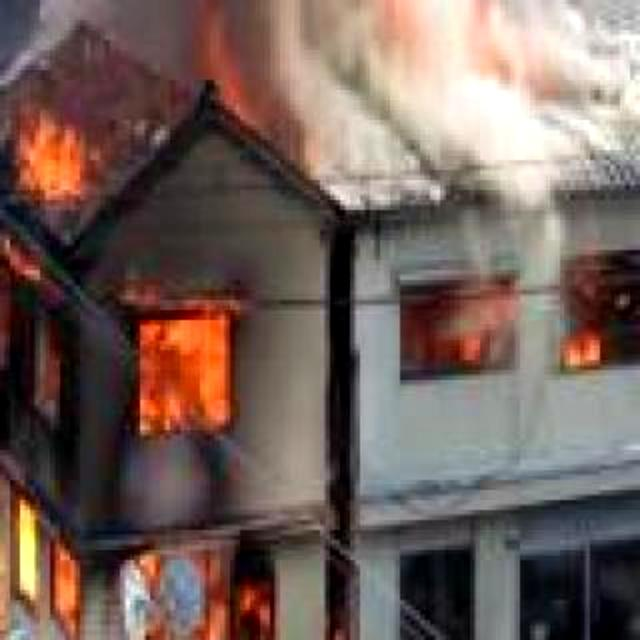fire: (0, 70, 95, 226), (138, 312, 230, 434), (10, 495, 80, 640), (415, 278, 512, 376)
smoke: (148, 0, 542, 171), (560, 250, 640, 370)
